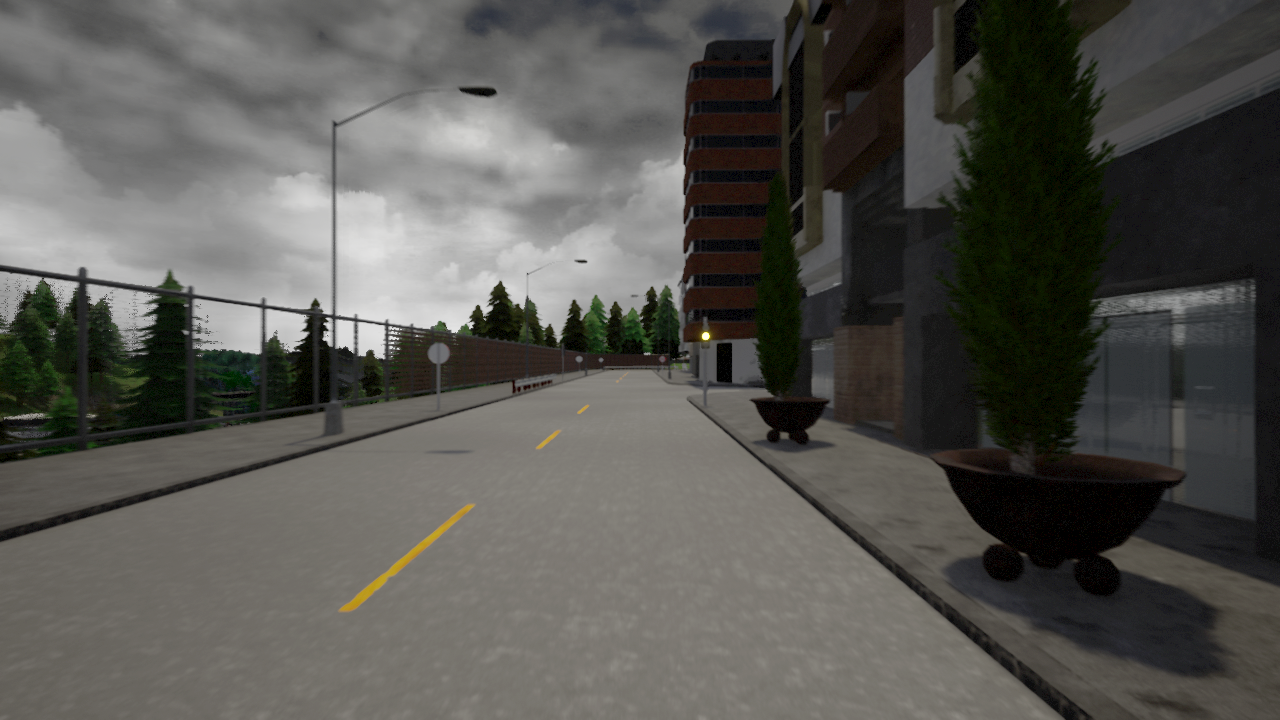yellow: (700, 322, 710, 348)
